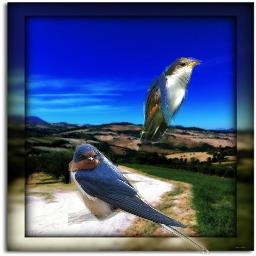Cuckoo: (140, 57, 202, 143)
Swallow: (68, 143, 210, 255)
